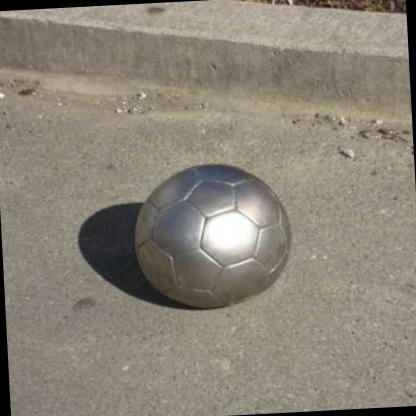ball: (130, 158, 296, 314)
